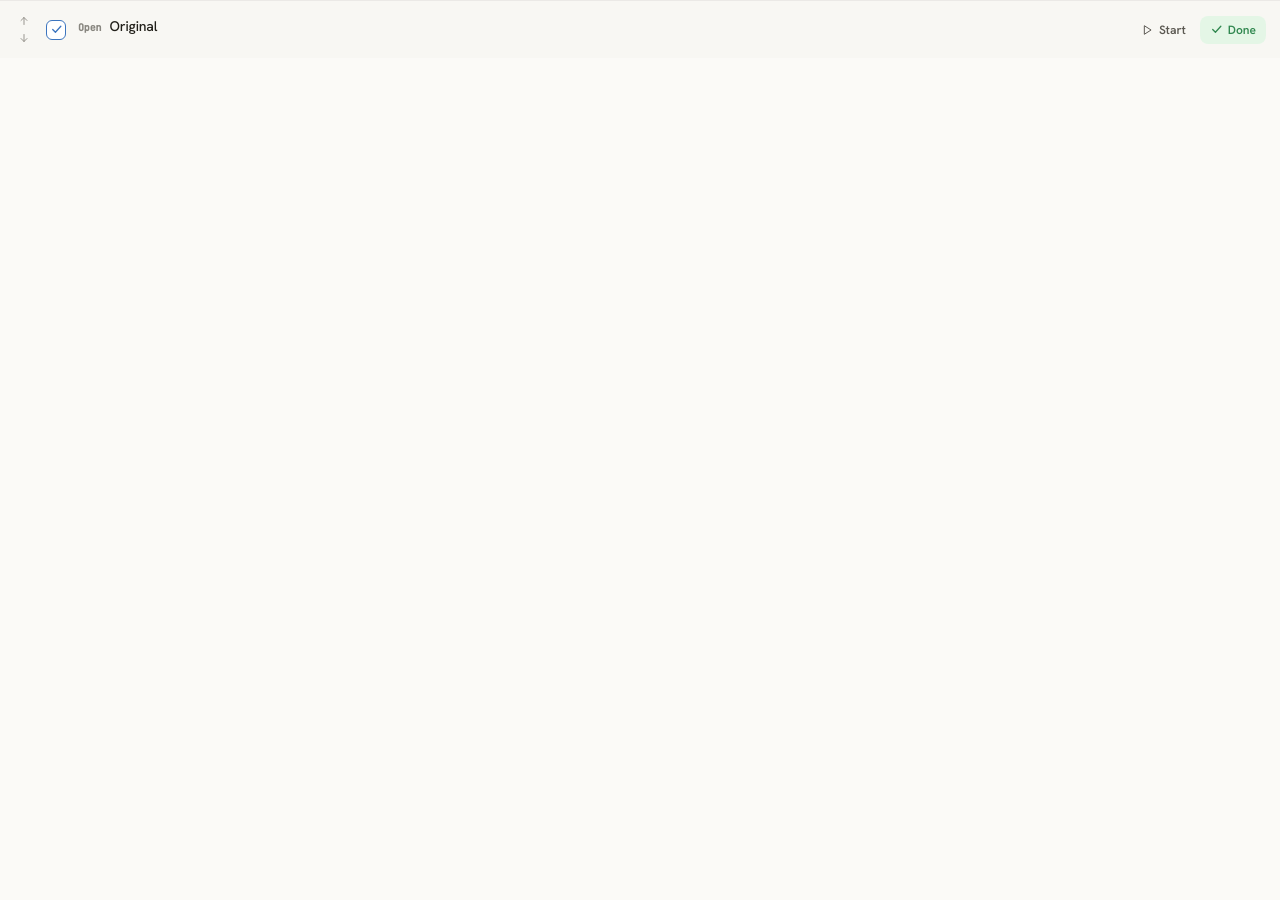
ItemRow › clicking item text opens the ItemEditModal
Step 1. Click the text "Original" → click(134, 26), box [110,17,158,35]
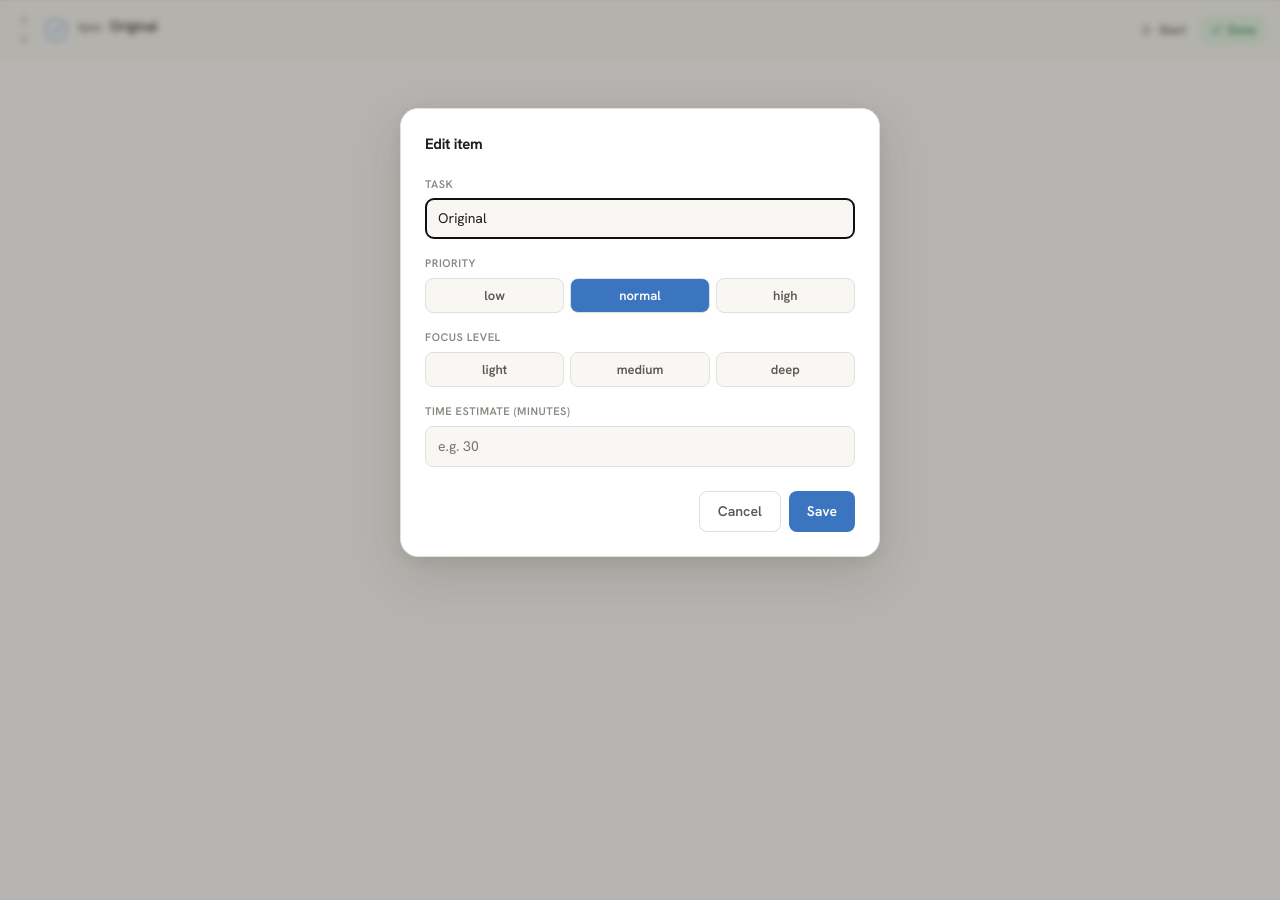
Now the dialog "Edit item" is shown, box [400,108,880,556]
